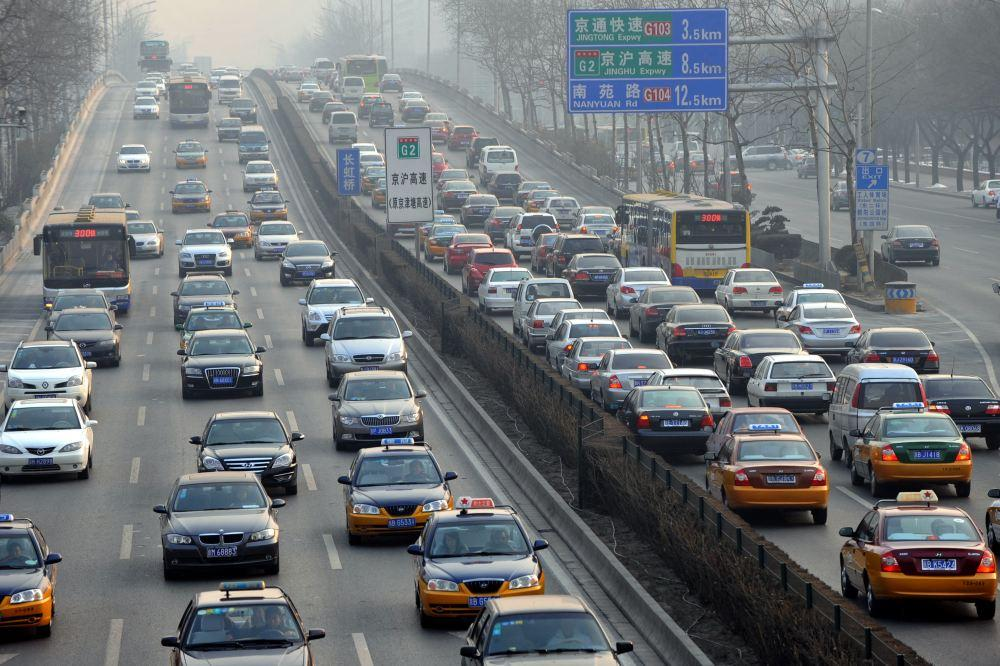bus: (615, 189, 751, 296), (33, 204, 136, 314), (164, 78, 213, 129), (335, 55, 381, 105), (593, 126, 647, 166), (541, 125, 588, 153), (136, 56, 173, 88), (139, 40, 170, 75), (361, 56, 389, 89), (192, 55, 212, 80)
car: (838, 490, 999, 619), (407, 496, 549, 630), (152, 471, 287, 583), (161, 580, 326, 666), (337, 438, 458, 545), (704, 424, 830, 524), (459, 594, 633, 666), (849, 402, 973, 497), (822, 362, 928, 473), (189, 410, 305, 495), (703, 407, 810, 493), (914, 356, 1000, 450), (1, 398, 98, 480), (328, 370, 427, 450), (1, 338, 97, 420), (320, 305, 413, 388), (1, 513, 63, 637), (616, 385, 717, 458), (643, 368, 733, 442), (710, 329, 810, 395), (176, 328, 267, 400), (545, 303, 631, 374), (588, 348, 677, 416), (746, 354, 838, 419), (844, 328, 940, 386), (778, 296, 862, 359), (298, 278, 374, 346), (655, 304, 737, 363), (44, 308, 124, 367), (176, 301, 253, 362), (557, 336, 634, 394), (777, 283, 848, 345), (628, 286, 705, 343), (169, 270, 240, 331), (542, 308, 613, 363), (510, 278, 575, 338), (713, 268, 785, 321), (518, 298, 586, 353), (605, 267, 674, 320), (45, 290, 118, 338), (502, 209, 563, 261), (560, 253, 624, 301), (459, 246, 519, 297), (544, 233, 606, 281), (175, 228, 235, 277), (475, 267, 536, 315), (277, 240, 339, 287), (880, 225, 941, 266), (529, 234, 584, 276), (443, 233, 496, 274), (251, 220, 304, 260), (422, 220, 471, 262), (537, 197, 584, 238), (116, 219, 165, 258), (570, 214, 620, 252), (207, 210, 256, 248), (475, 146, 518, 189), (416, 209, 457, 251), (570, 205, 622, 238), (726, 146, 791, 172), (434, 179, 478, 216), (247, 187, 291, 224), (169, 178, 214, 214), (83, 193, 133, 223), (705, 173, 750, 206), (523, 184, 563, 221), (486, 171, 527, 206), (459, 194, 501, 227), (236, 125, 272, 163), (512, 180, 555, 211), (371, 169, 405, 208), (239, 160, 280, 192), (360, 161, 396, 196), (433, 168, 475, 198), (466, 136, 503, 168), (827, 181, 865, 212), (349, 143, 382, 178), (172, 138, 209, 169), (326, 111, 359, 145), (421, 112, 454, 145), (985, 482, 1000, 554), (115, 144, 152, 173), (608, 151, 643, 181), (605, 227, 634, 261), (107, 210, 141, 239), (670, 141, 701, 172), (355, 154, 385, 184), (421, 152, 449, 183), (448, 125, 481, 151), (971, 179, 1000, 208), (358, 93, 388, 121), (216, 75, 243, 105), (228, 98, 258, 124), (645, 152, 675, 177), (780, 148, 815, 169), (216, 117, 246, 141), (368, 102, 395, 128), (339, 77, 366, 103), (402, 100, 432, 123), (132, 97, 161, 120), (322, 101, 349, 125), (797, 157, 826, 179), (412, 140, 436, 166), (143, 77, 169, 101), (397, 91, 425, 113), (686, 151, 715, 172), (309, 91, 336, 113), (133, 81, 161, 102), (380, 73, 404, 95), (296, 83, 322, 103), (310, 57, 332, 79), (313, 60, 336, 80), (186, 76, 210, 95), (220, 71, 241, 90), (284, 66, 305, 84), (209, 69, 227, 89), (329, 72, 345, 92), (144, 73, 165, 88), (323, 69, 340, 87), (184, 68, 204, 82), (179, 64, 193, 78)
